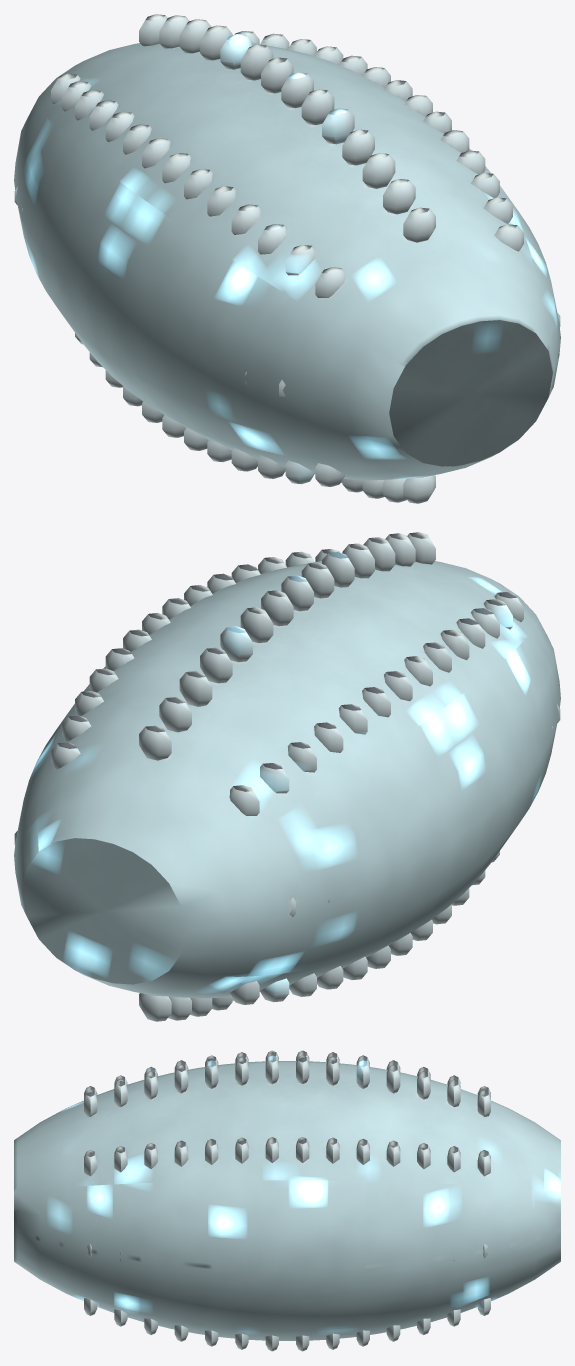
Rendered from beroe_cucumis.glb.
3 renders of one model, top to bottom at view 1: azimuth 30°, elevation 25°; view 2: azimuth 150°, elevation 25°; view 3: azimuth 270°, elevation 25°, orthographic. The views are drawn at different scales.
Visible parts, largest first — view 1: beroe_cucumis; view 2: beroe_cucumis; view 3: beroe_cucumis.
Boxes of the visible parts, left/top/right/bottom form: beroe_cucumis: left=14, top=14, right=560, bottom=503; beroe_cucumis: left=14, top=532, right=560, bottom=1021; beroe_cucumis: left=14, top=1050, right=560, bottom=1351.
Bounding box in the file's own units: 0.2967 × 0.2912 × 0.4992.
Materials: 2 (2 with a texture image).
